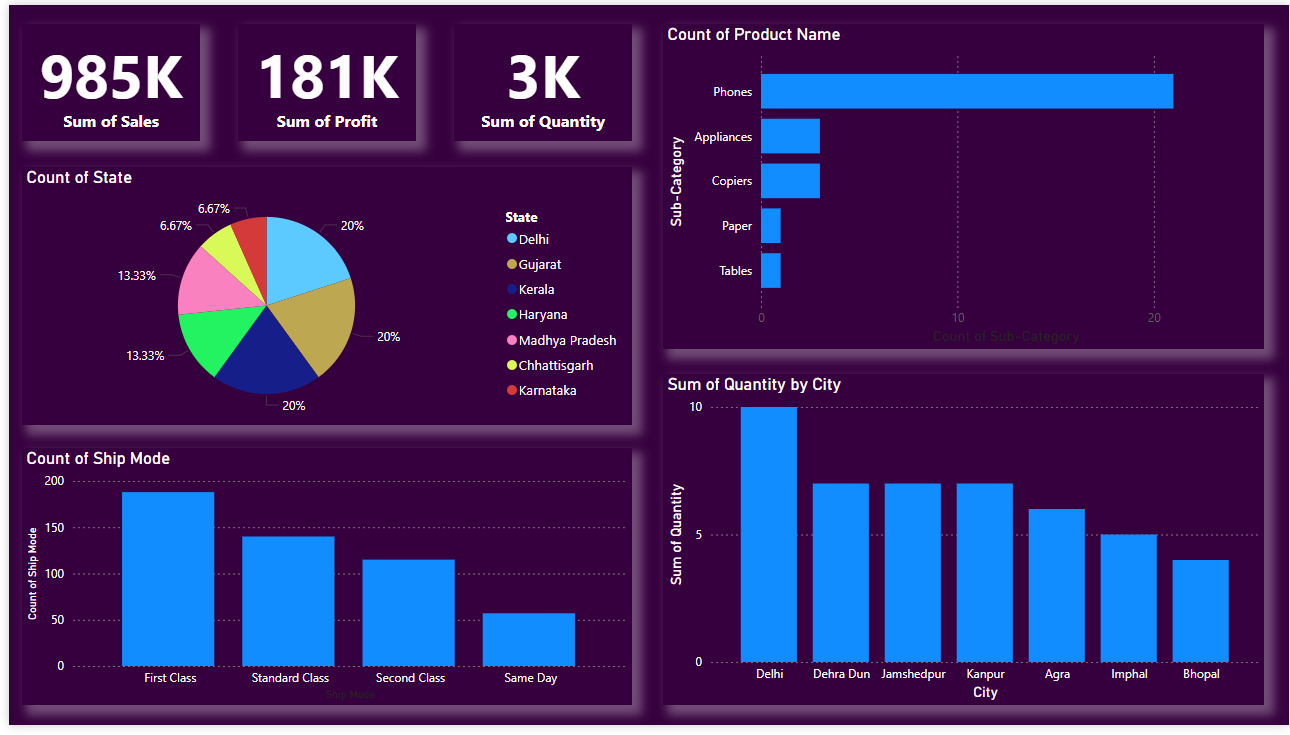

The dashboard page shown, as its layout file describes it:
{"tool":"powerbi","page":{"name":"Page 1","canvas":[1280,720],"ordinal":0},"visuals":[{"type":"card","fields":{"Values":["Sum(SuperMarket_Analysis.Sales)"]},"box":[13,19,178,117],"z":0},{"type":"card","fields":{"Values":["Sum(SuperMarket_Analysis.Profit)"]},"box":[229,19,178,117],"z":1000},{"type":"card","fields":{"Values":["Sum(SuperMarket_Analysis.Quantity)"]},"box":[445,19,178,117],"z":2000},{"type":"pieChart","title":"Count of State ","fields":{"Category":["SuperMarket_Analysis.State"],"Y":["CountNonNull(SuperMarket_Analysis.State)"]},"box":[13,162,610,258],"z":3000},{"type":"columnChart","title":"Count of Ship Mode","fields":{"Category":["SuperMarket_Analysis.Ship Mode"],"Y":["CountNonNull(SuperMarket_Analysis.Ship Mode)"]},"box":[13,443,610,257],"z":4000},{"type":"clusteredBarChart","title":"Count of Product Name ","fields":{"Category":["SuperMarket_Analysis.Sub-Category"],"Y":["CountNonNull(SuperMarket_Analysis.Sub-Category)"]},"box":[654,19,601,325],"z":5000},{"type":"columnChart","fields":{"Y":["Sum(SuperMarket_Analysis.Quantity)"],"Category":["SuperMarket_Analysis.City"]},"box":[654,369,601,331],"z":5001}]}

Visuals, with their boxes in screenshot pixels (x1, y1, x2, y2), scaled from the page's 1280x720 canvas onto the 1290x735 screenshot:
card - Sum(SuperMarket_Analysis.Sales): [13, 19, 192, 139]
card - Sum(SuperMarket_Analysis.Profit): [231, 19, 410, 139]
card - Sum(SuperMarket_Analysis.Quantity): [448, 19, 628, 139]
"Count of State " pieChart: [13, 165, 628, 429]
"Count of Ship Mode" columnChart: [13, 452, 628, 715]
"Count of Product Name " clusteredBarChart: [659, 19, 1265, 351]
columnChart - Sum(SuperMarket_Analysis.Quantity) x SuperMarket_Analysis.City: [659, 377, 1265, 715]
